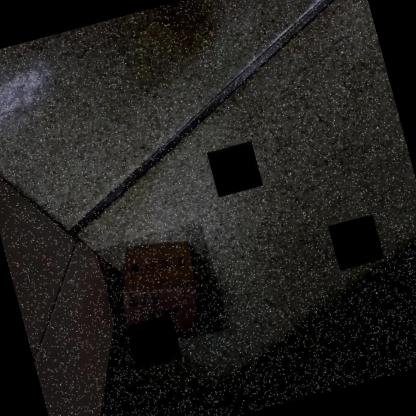box: (95, 220, 229, 355)
